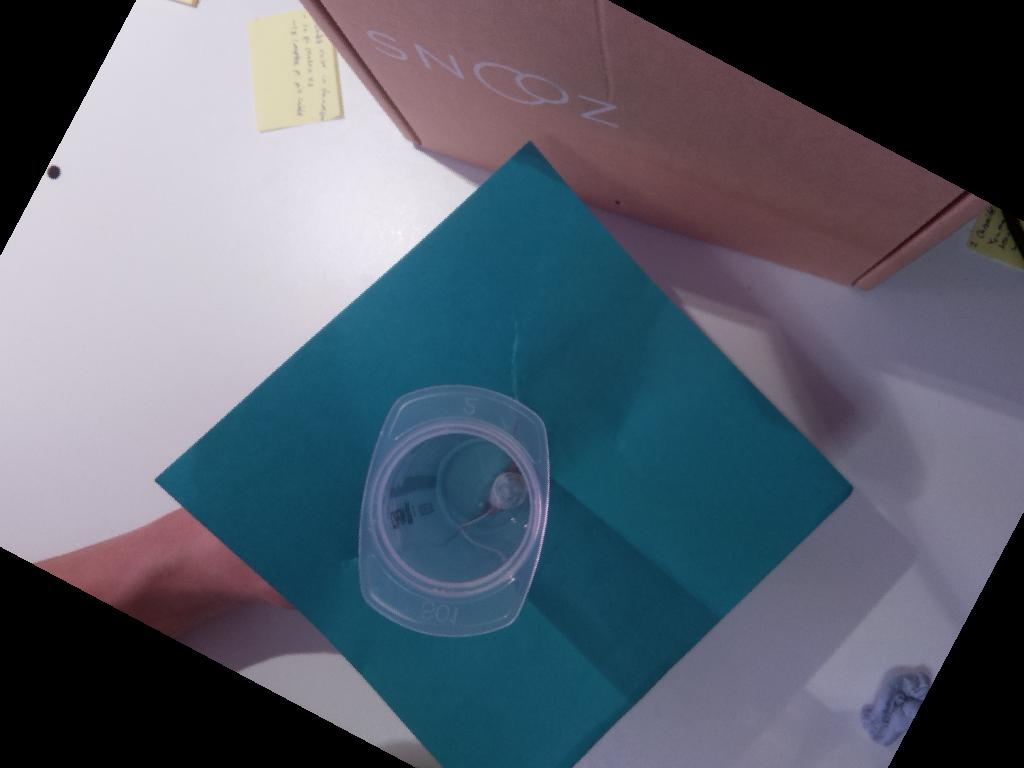clean: (357, 384, 551, 639)
